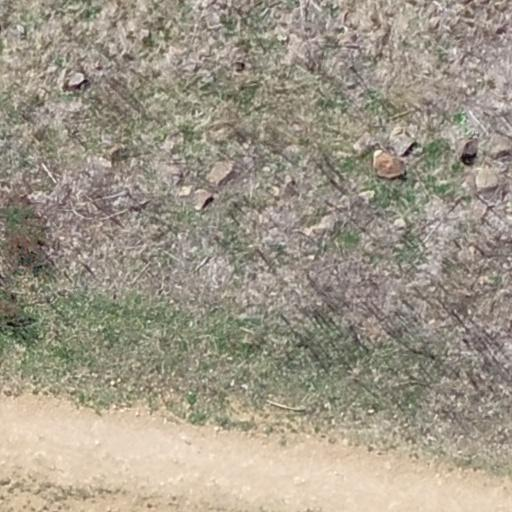stone: (375, 151, 407, 180), (459, 139, 476, 161)
